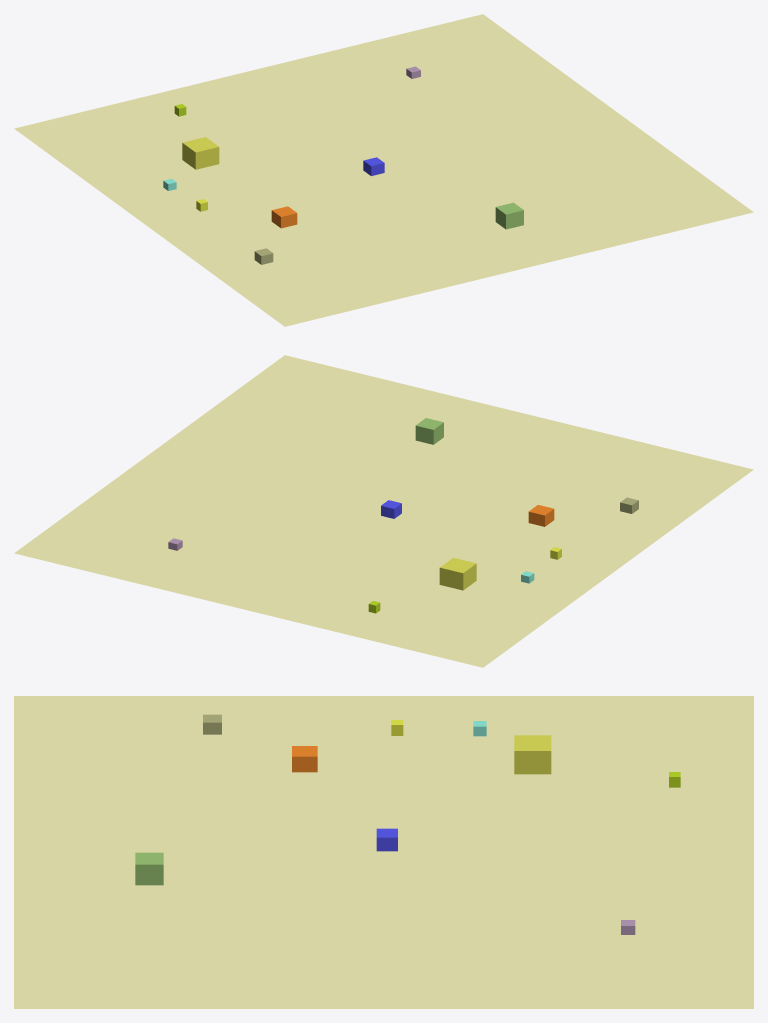
3 views of the same model, one above another, from view 1: azimuth 30°, elevation 25°; view 2: azimuth 150°, elevation 25°; view 3: azimuth 270°, elevation 25° (orthographic). The views are drawn at different scales.
Parts seen in each view (by area): view 1: Chunk_1_2; view 2: Chunk_1_2; view 3: Chunk_1_2.
Part boxes in pixels (box(x1,y1,x2,y2)): Chunk_1_2: box(14, 14, 753, 326); Chunk_1_2: box(14, 355, 753, 667); Chunk_1_2: box(14, 696, 753, 1008).
Size of the model in its own units: 1500 by 74.87 by 1500.
